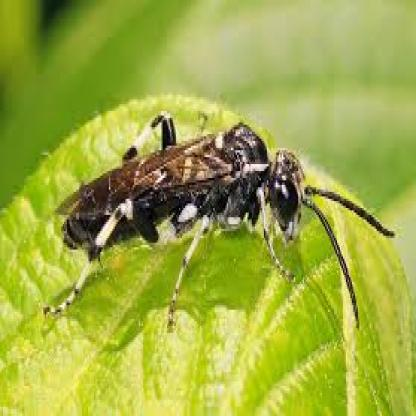sawfly: (43, 112, 397, 324)
